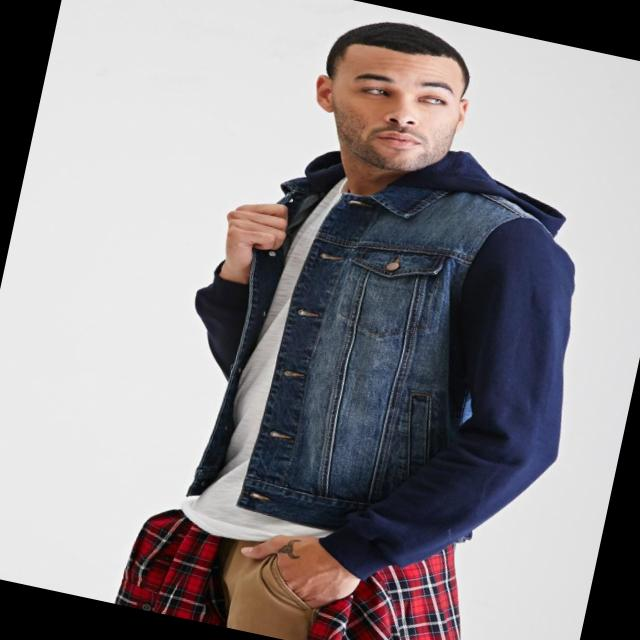Jacket: (162, 122, 626, 585)
